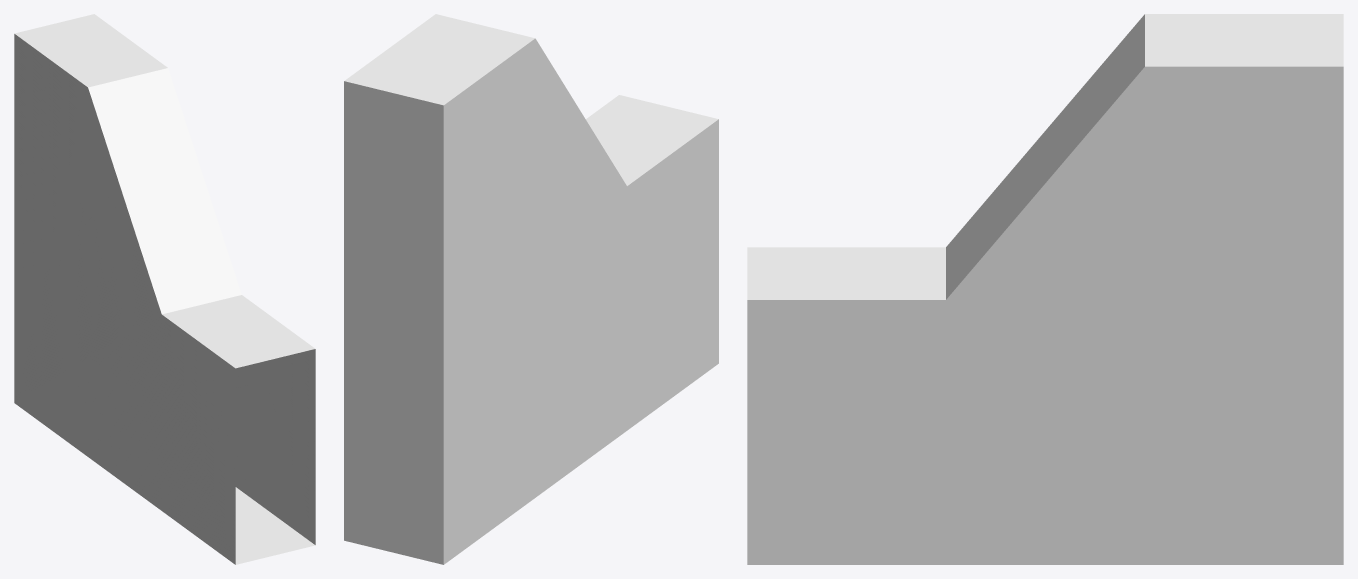
Rendered from Thresher-Room-Door-Side.obj.
The picture shows the model from 3 angles, left to right: view 1: azimuth 30°, elevation 25°; view 2: azimuth 150°, elevation 25°; view 3: azimuth 270°, elevation 25°; orthographic projection. The views are drawn at different scales.
Parts seen in each view (by area): view 1: Thresher-Room-Side; view 2: Thresher-Room-Side; view 3: Thresher-Room-Side.
Boxes of the visible parts, x1,y1,x2,y2 form: Thresher-Room-Side: [14, 14, 315, 564]; Thresher-Room-Side: [344, 14, 718, 564]; Thresher-Room-Side: [747, 14, 1343, 564].
Bounding box in the file's own units: 0.8 × 3.52 × 3.83.
